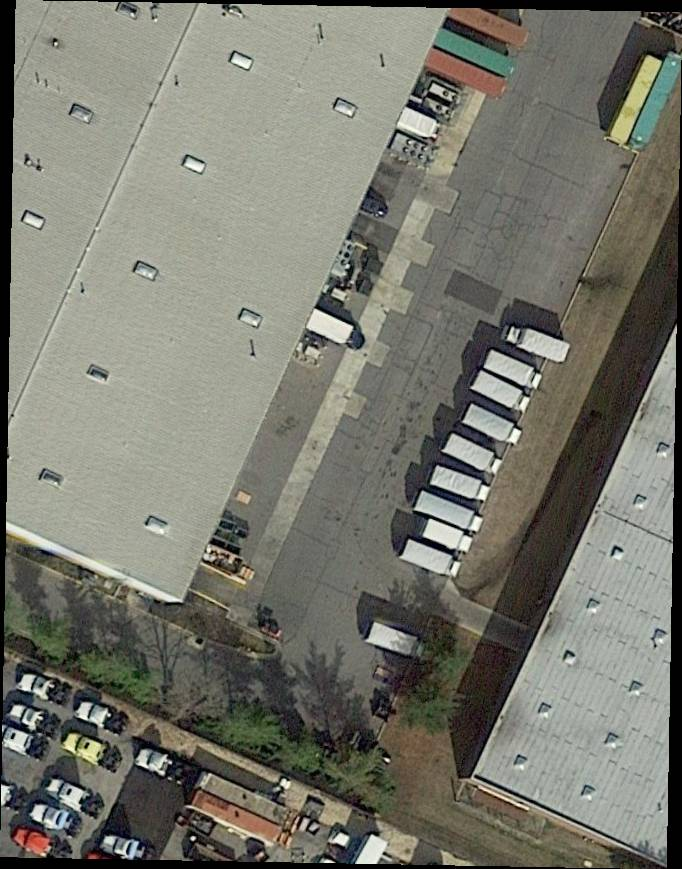large vehicle: (360, 617, 440, 665), (302, 304, 373, 357), (395, 533, 467, 584), (438, 428, 508, 479), (499, 320, 576, 365), (414, 490, 489, 536), (406, 513, 476, 561), (464, 369, 534, 414), (479, 348, 546, 391), (463, 403, 527, 446), (430, 465, 494, 503)
